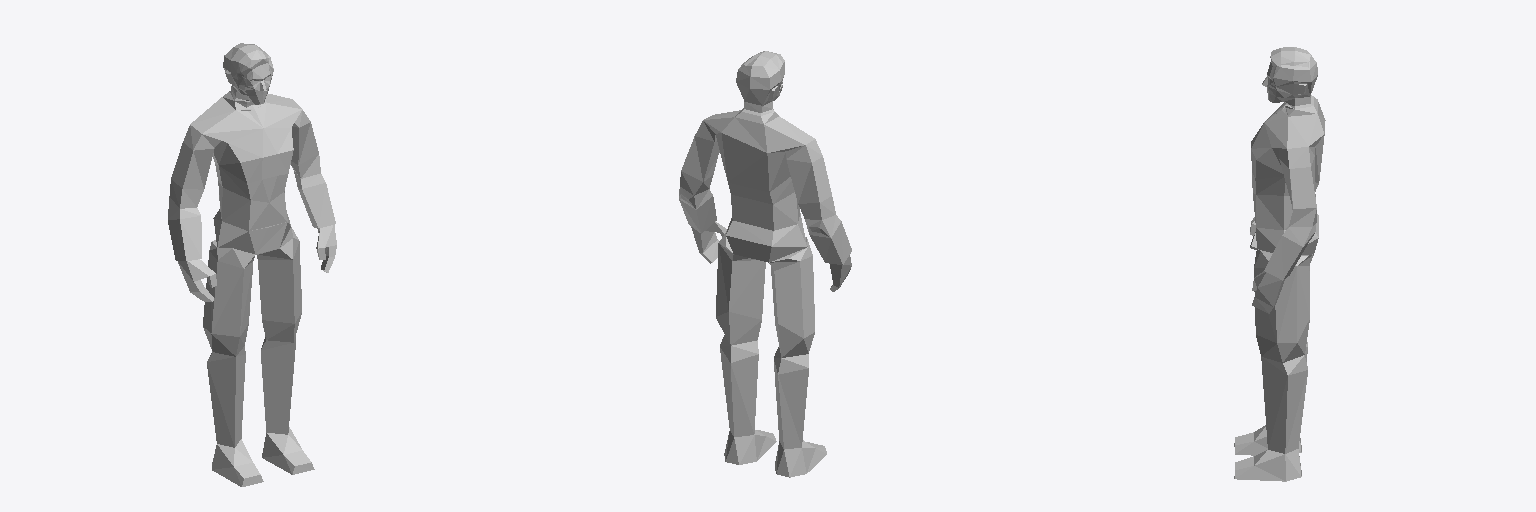
Rendered from Manuel15.obj.
3 renders of one model, left to right at view 1: azimuth 30°, elevation 25°; view 2: azimuth 150°, elevation 25°; view 3: azimuth 270°, elevation 25°, orthographic.
Visible parts, largest first — view 1: leon; view 2: leon; view 3: leon.
Boxes of the visible parts, x1,y1,x2,y2 form: leon: [168, 43, 336, 486]; leon: [679, 51, 851, 477]; leon: [1234, 47, 1325, 481].
Size of the model in its own units: 4.81 by 12.18 by 2.44.